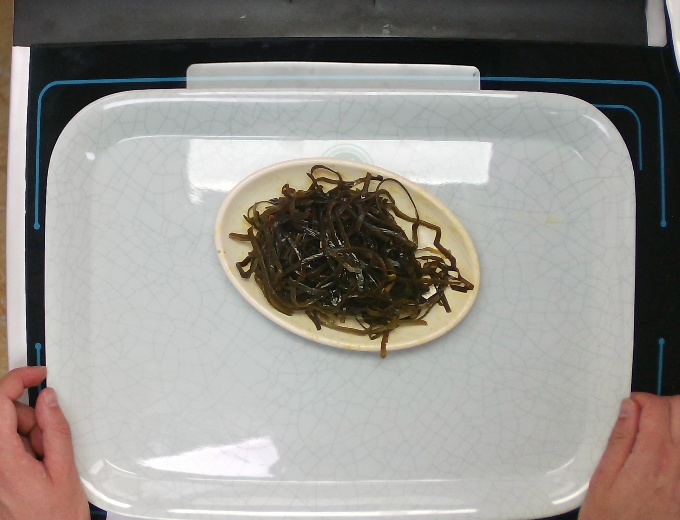JYsf-Tuo_Yuan_Wan: (213, 150, 492, 354)
